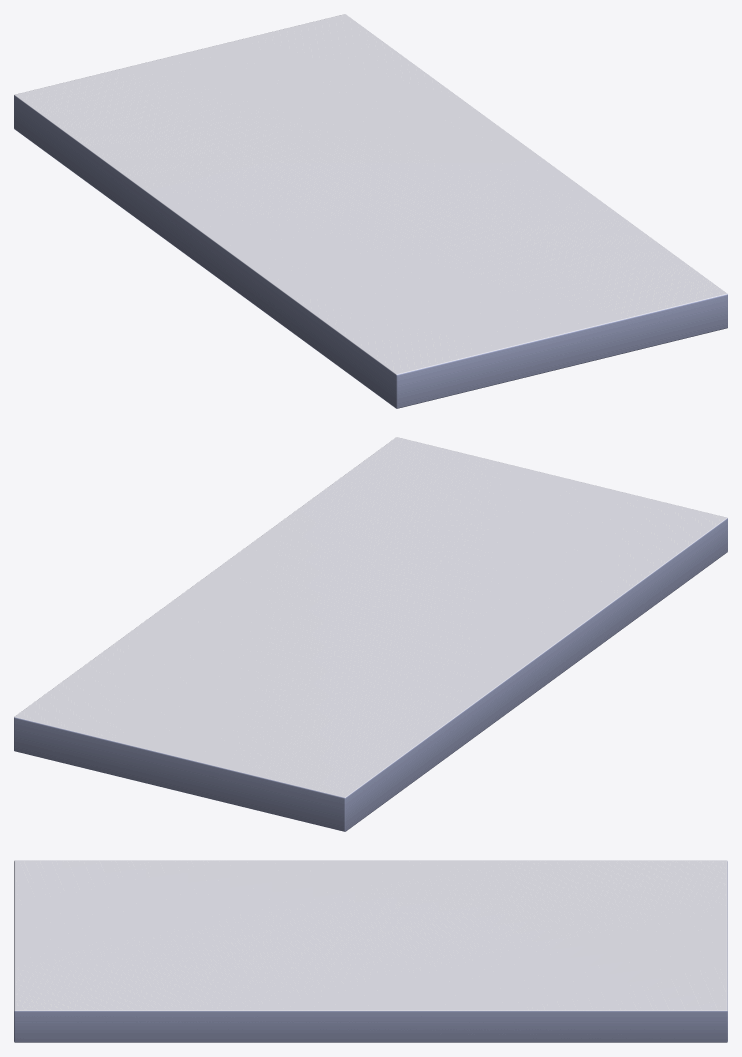
The model's file is floor-half.glb.
3 renders of one model, top to bottom at view 1: azimuth 30°, elevation 25°; view 2: azimuth 150°, elevation 25°; view 3: azimuth 270°, elevation 25°, orthographic. The views are drawn at different scales.
Visible parts, largest first — view 1: floor-half; view 2: floor-half; view 3: floor-half.
Boxes of the visible parts, x1,y1,x2,y2 form: floor-half: [14, 14, 727, 408]; floor-half: [14, 437, 727, 831]; floor-half: [14, 860, 727, 1042].
Size of the model in its own units: 1 by 0.1 by 2.
Materials: 1 (1 with a texture image).
